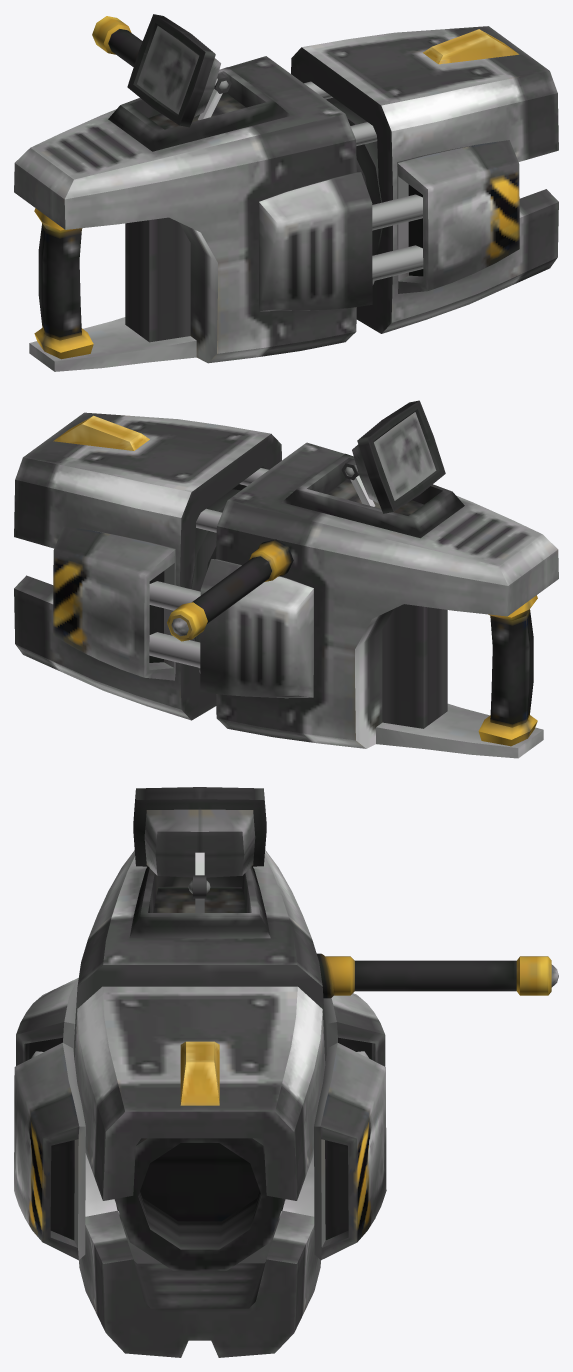
The model's file is Visibomb.obj.
3 views of the same model, one above another, from view 1: azimuth 30°, elevation 25°; view 2: azimuth 150°, elevation 25°; view 3: azimuth 270°, elevation 25° (orthographic). The views are drawn at different scales.
Visible parts, largest first — view 1: Mesh0; view 2: Mesh0; view 3: Mesh0.
Boxes of the visible parts, <box> form: Mesh0: <box>14,14,558,371</box>; Mesh0: <box>14,400,558,758</box>; Mesh0: <box>14,787,558,1357</box>.
Size of the model in its own units: 24.78 by 15.63 by 19.92.
1 material, 1 textured.
